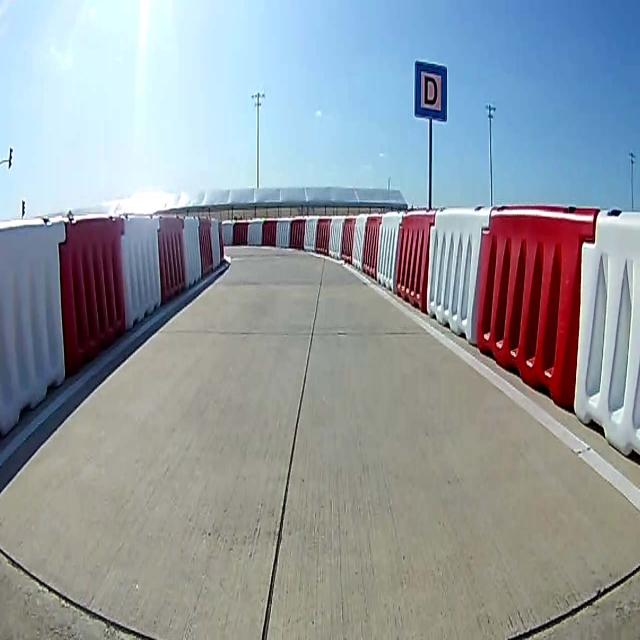durak: (415, 60, 447, 120)
